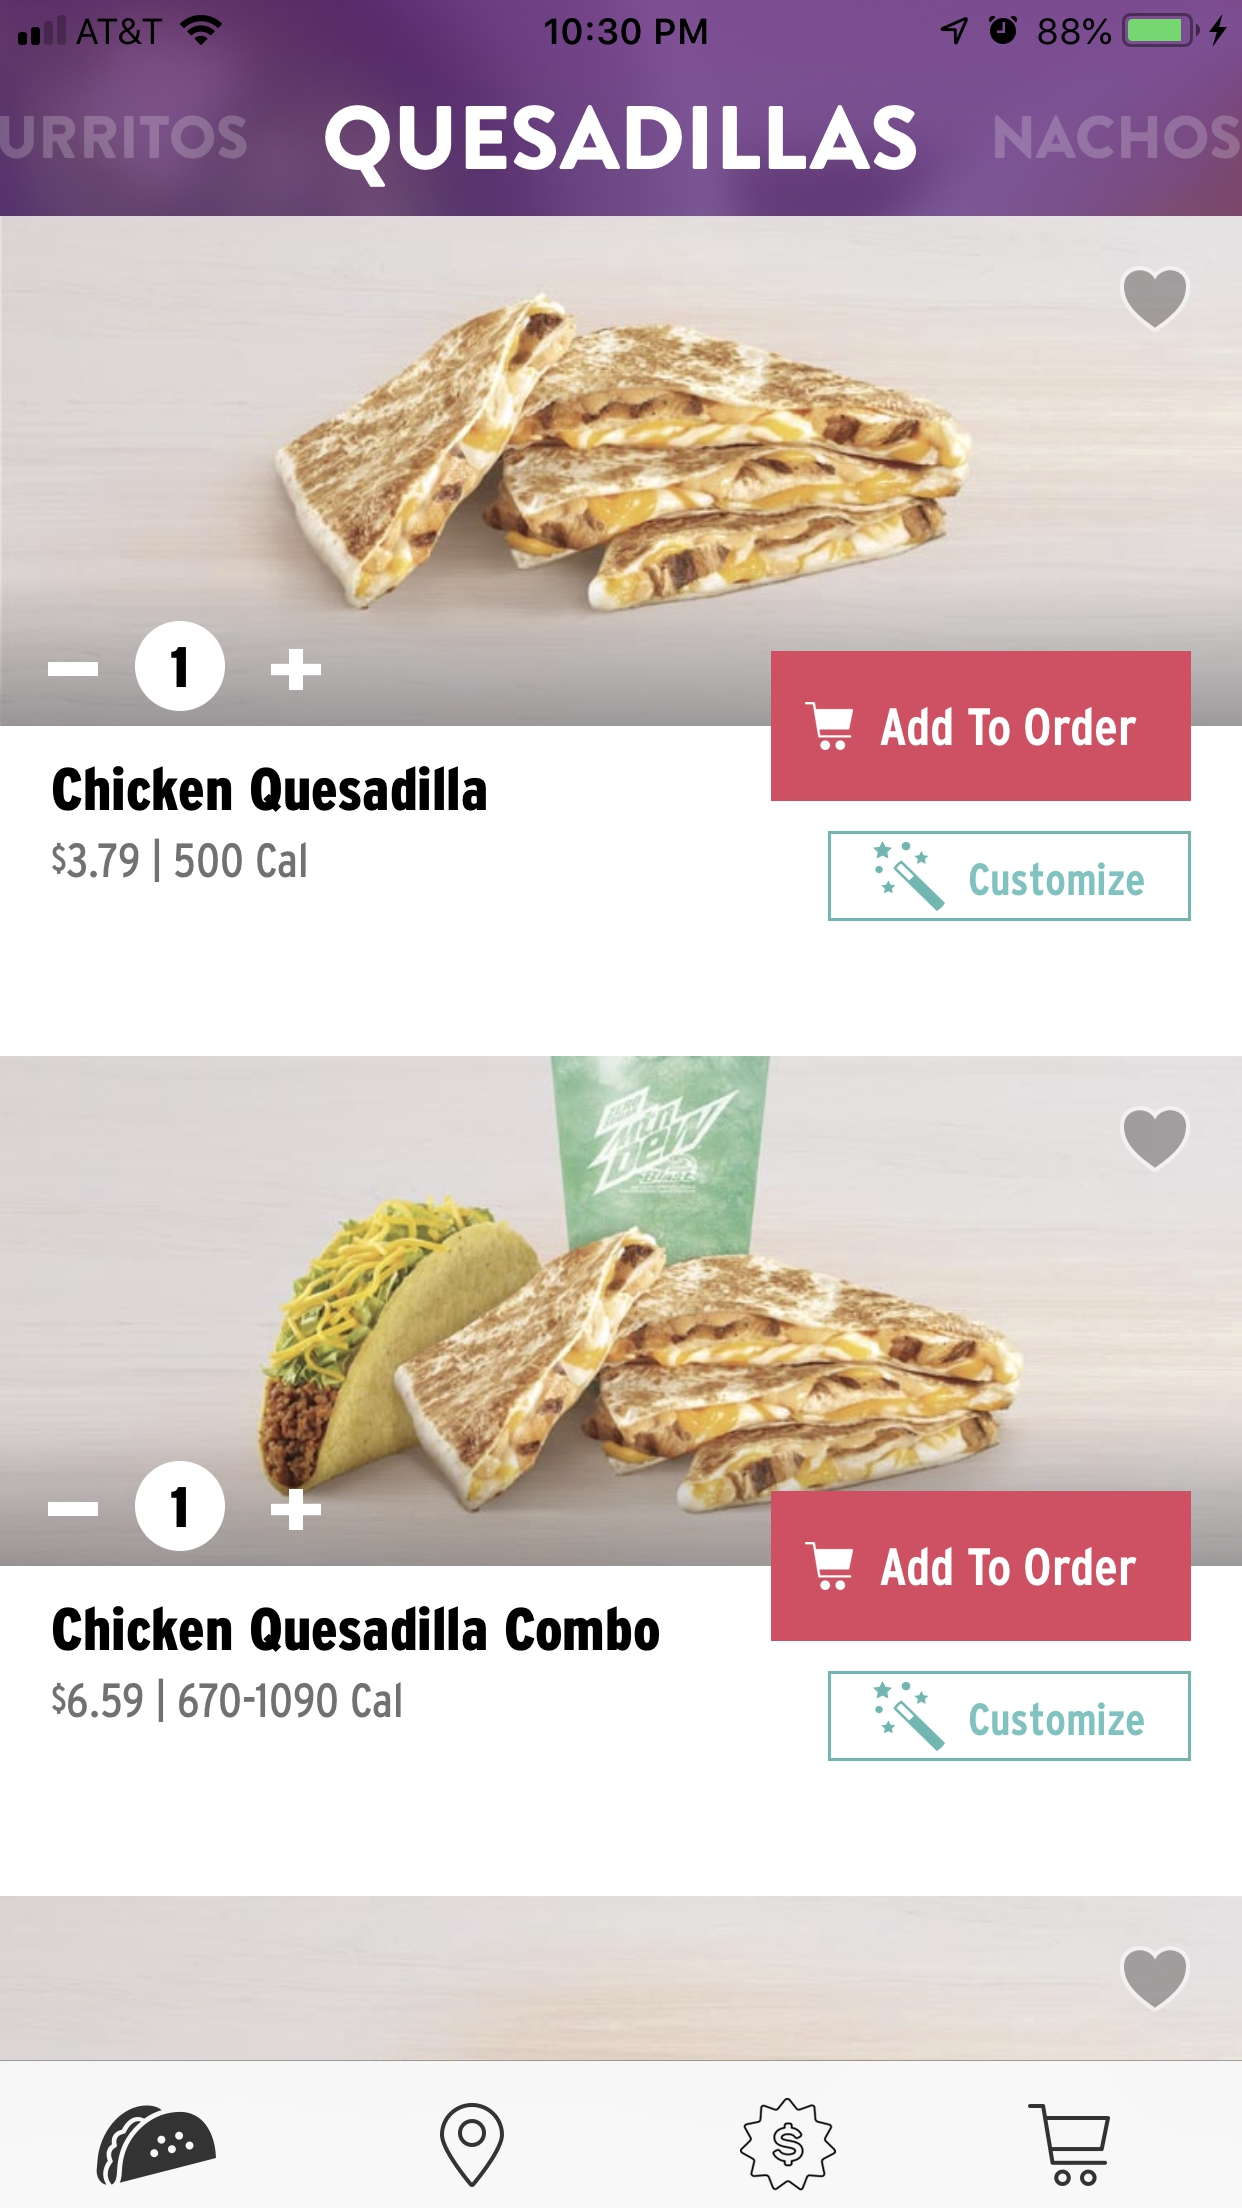Icon: (739, 2097, 837, 2191), (1027, 2103, 1112, 2187), (440, 2102, 507, 2188), (1119, 1106, 1190, 1174), (1121, 1946, 1190, 2011), (1121, 265, 1189, 331)
Image: (2, 215, 1242, 726), (2, 1057, 1242, 1567), (2, 1896, 1242, 2059), (97, 2103, 218, 2185)
Text: (325, 105, 917, 190), (53, 1604, 660, 1653), (53, 764, 487, 811), (52, 1677, 403, 1723), (52, 837, 308, 883), (993, 115, 1240, 161), (2, 115, 249, 161)
TextButton: (770, 651, 1192, 802), (770, 1491, 1190, 1642), (828, 1671, 1192, 1762), (828, 831, 1192, 922)
UpperTaskBar: (2, 2, 1242, 49)
